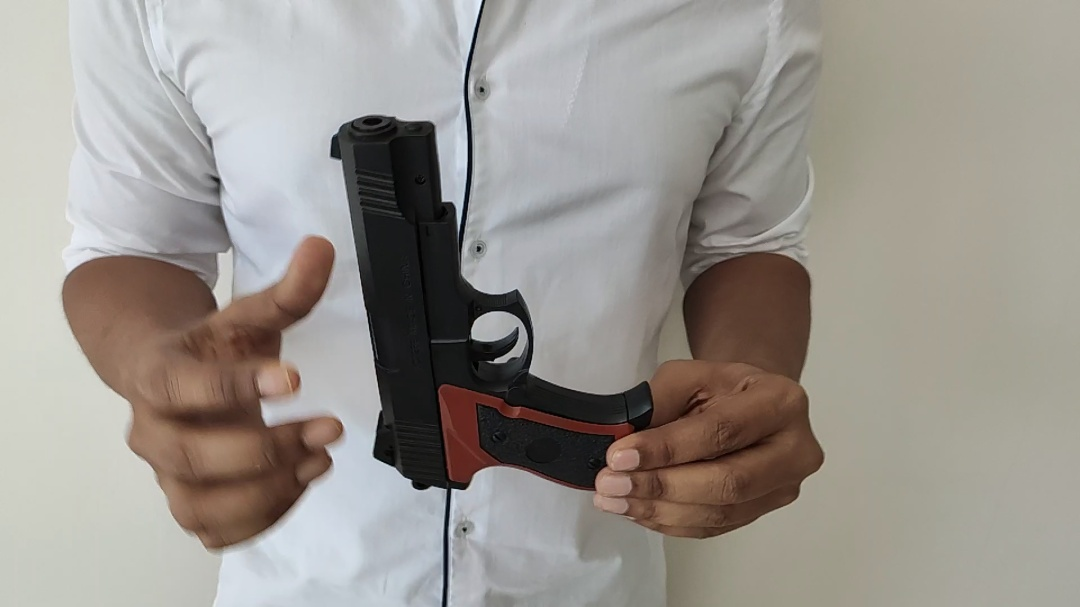gun: (330, 115, 654, 492)
